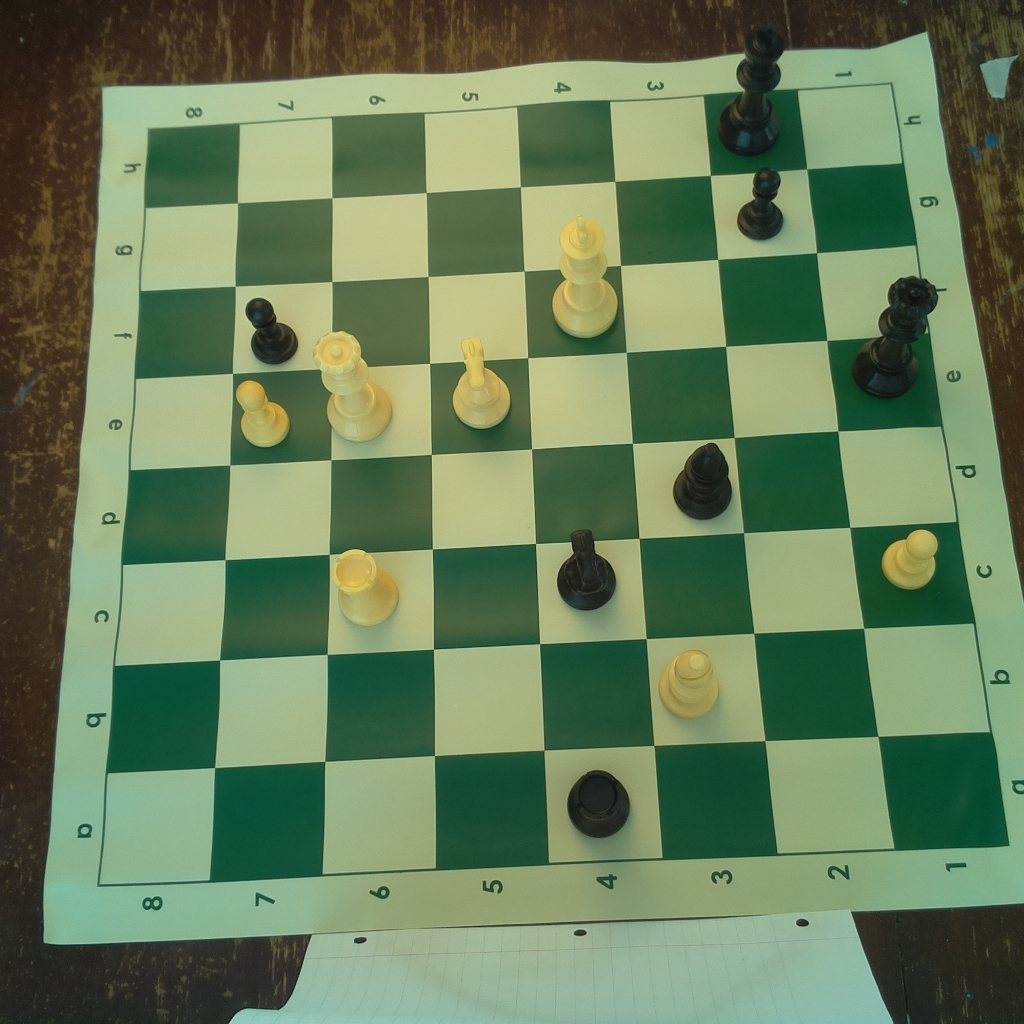black_bishop: (670, 440, 733, 523)
black_king: (718, 19, 786, 156)
black_knight: (551, 525, 623, 612)
black_pawn: (236, 292, 299, 365), (737, 169, 790, 241)
black_queen: (855, 267, 942, 399)
black_rook: (562, 766, 632, 838)
file_a: (96, 734, 1011, 887)
file_b: (107, 621, 992, 775)
file_c: (114, 522, 977, 666)
file_d: (123, 425, 958, 567)
file_e: (131, 335, 944, 471)
file_f: (137, 243, 932, 382)
file_g: (141, 162, 916, 293)
file_h: (144, 84, 901, 210)
outline: (93, 82, 1011, 888)
rank_1: (796, 83, 1011, 851)
rank_2: (707, 88, 897, 852)
rank_3: (611, 96, 780, 860)
rank_4: (519, 100, 663, 865)
rank_5: (423, 104, 550, 873)
rank_6: (320, 112, 437, 873)
rank_7: (210, 119, 332, 882)
rank_8: (93, 122, 241, 887)
white_bishop: (657, 644, 725, 721)
white_king: (549, 212, 623, 339)
white_knight: (450, 332, 514, 431)
white_pawn: (876, 526, 944, 592), (233, 379, 293, 451)
white_queen: (312, 323, 397, 441)
white_rook: (327, 545, 407, 627)
